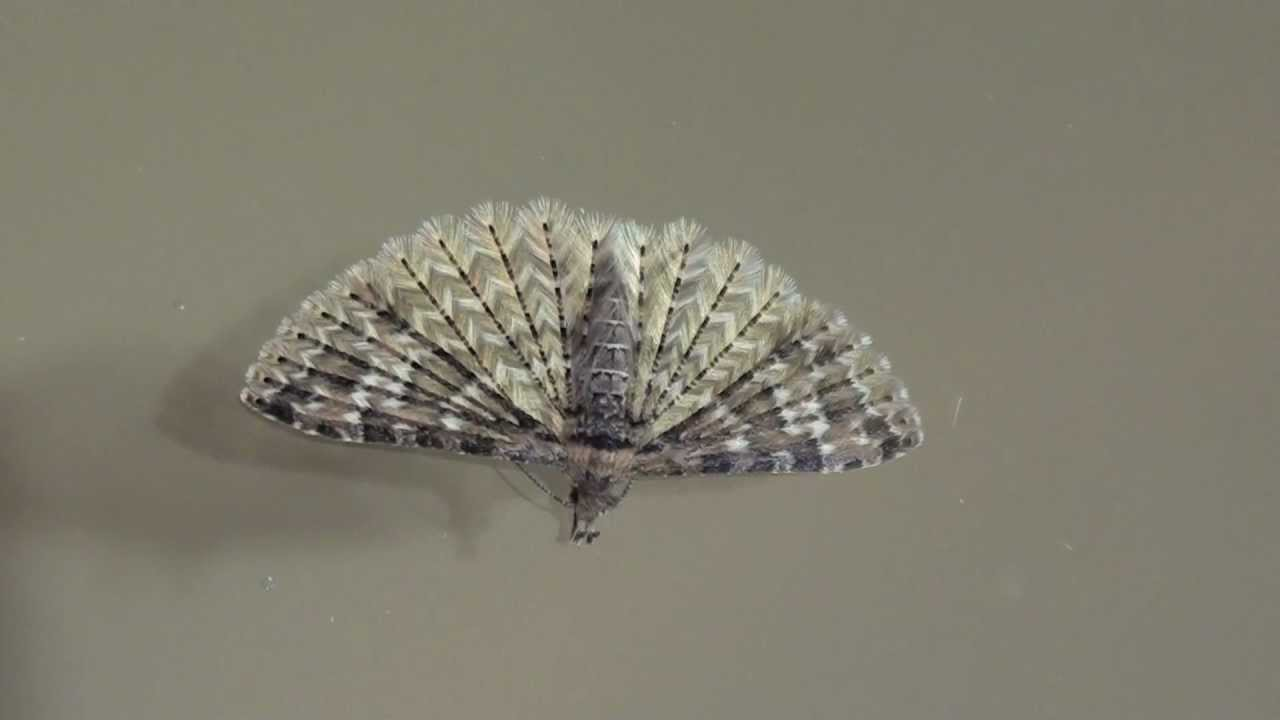Alucitidae: (233, 182, 957, 540)
moth: (235, 184, 959, 542)
